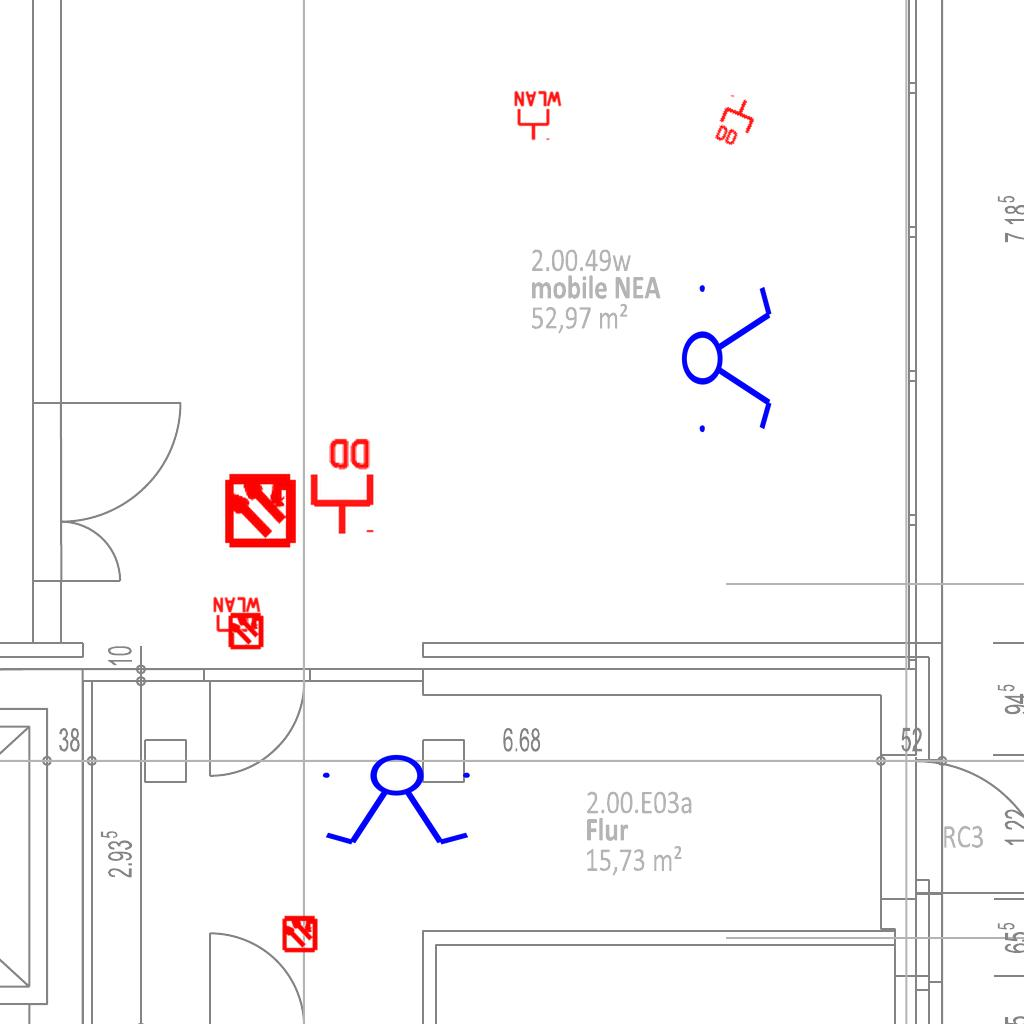Datenanschluss_zweifach: (306, 434, 375, 537), (711, 92, 763, 153)
OT_Multisensormelder_(Kombination_RMO_WMD): (204, 452, 317, 565), (272, 905, 328, 961), (218, 602, 274, 658)
Serienschalter: (314, 753, 482, 849), (680, 273, 776, 441)
WLAN: (211, 596, 263, 648), (512, 90, 564, 142)
